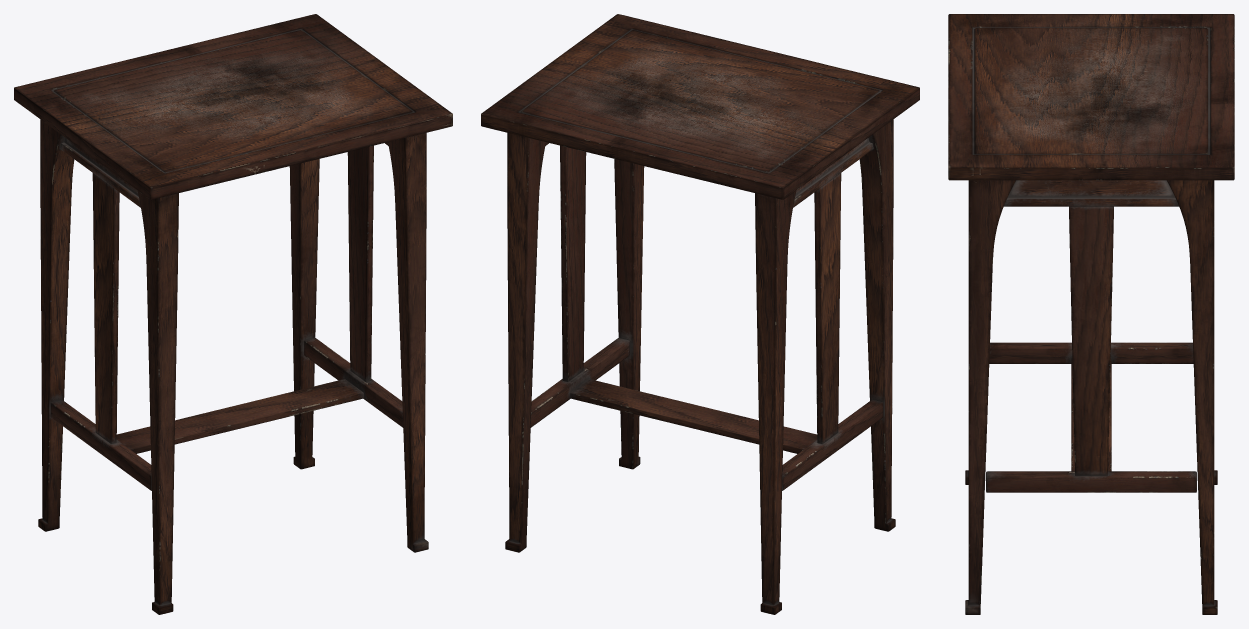
Rendered from SM_Table252.fbx.
3 renders of one model, left to right at view 1: azimuth 30°, elevation 25°; view 2: azimuth 150°, elevation 25°; view 3: azimuth 270°, elevation 25°, orthographic. The views are drawn at different scales.
Parts seen in each view (by area): view 1: SM_Table252; view 2: SM_Table252; view 3: SM_Table252.
Part boxes in pixels (x1=…): SM_Table252: x1=14, y1=14, x2=452, y2=614; SM_Table252: x1=481, y1=14, x2=919, y2=614; SM_Table252: x1=948, y1=14, x2=1234, y2=614.
Bounding box in the file's own units: 46.5 × 64.18 × 36.5.
1 material, 1 textured.
